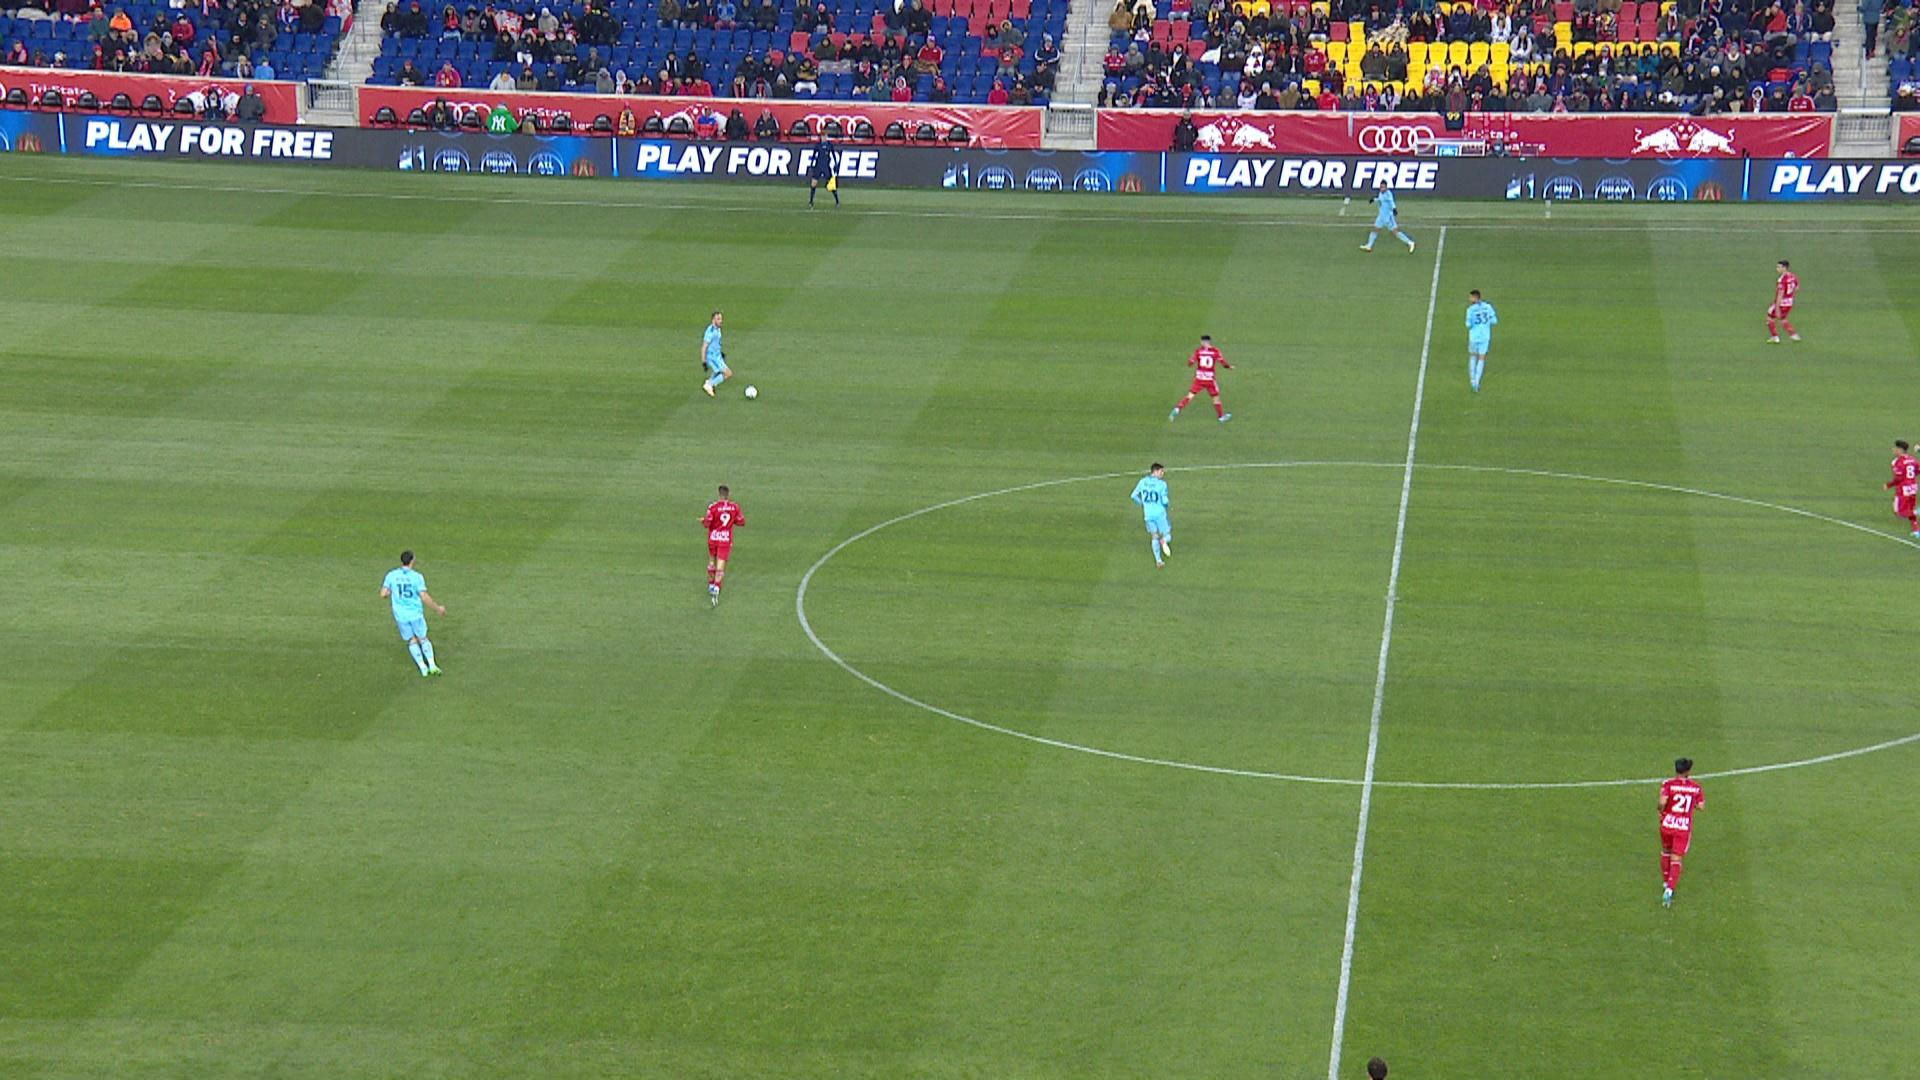football: (744, 385, 760, 400)
